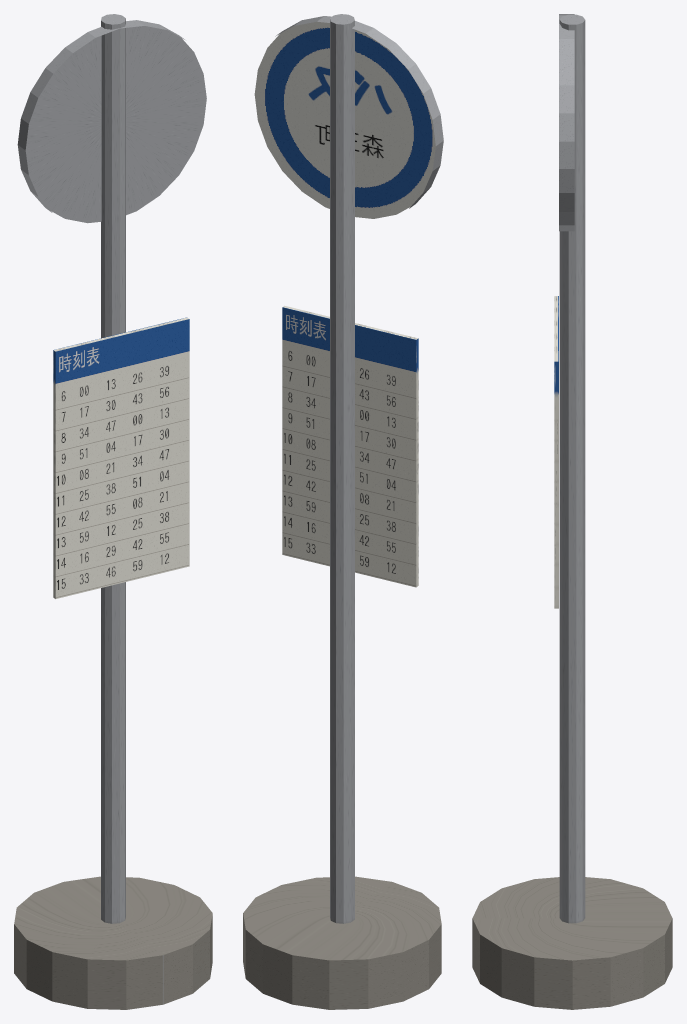
Rendered from busstop.glb.
The picture shows the model from 3 angles, left to right: view 1: azimuth 30°, elevation 25°; view 2: azimuth 150°, elevation 25°; view 3: azimuth 270°, elevation 25°; orthographic projection.
Parts seen in each view (by area): view 1: busstop; view 2: busstop; view 3: busstop.
Part boxes in pixels (x1=…): busstop: x1=14, y1=14, x2=212, y2=1009; busstop: x1=243, y1=14, x2=443, y2=1009; busstop: x1=472, y1=14, x2=672, y2=1009.
Size of the model in its own units: 0.48 by 2.3 by 0.44.
Materials: 1 (1 with a texture image).
